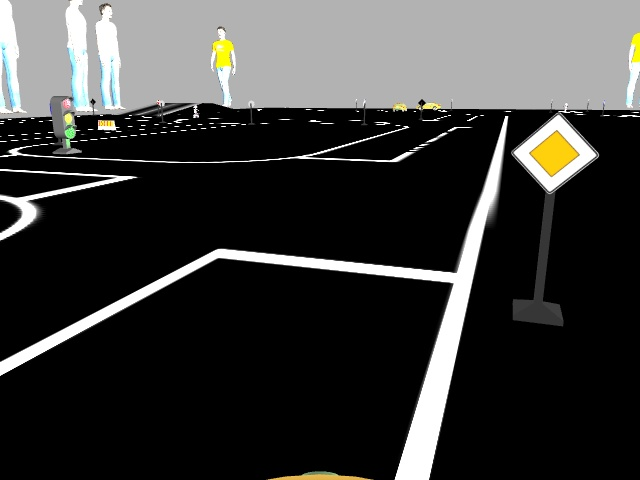ClosedRoadStand: (96, 118, 116, 130)
Priority: (519, 116, 591, 187)
TrafficLight: (48, 96, 76, 137)
